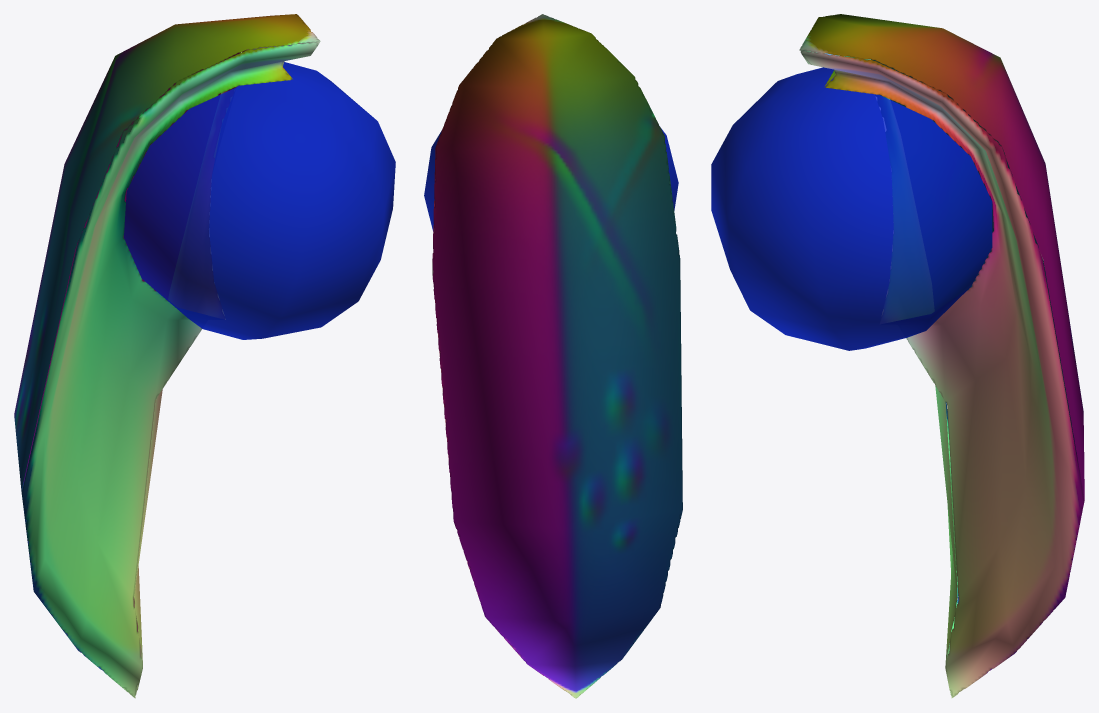
Rendered from ElipPata2.obj.
The picture shows the model from 3 angles, left to right: view 1: azimuth 30°, elevation 25°; view 2: azimuth 150°, elevation 25°; view 3: azimuth 270°, elevation 25°; orthographic projection. The views are drawn at different scales.
Visible parts, largest first — view 1: Sphere.003_Sphere.014; view 2: Sphere.003_Sphere.014; view 3: Sphere.003_Sphere.014.
Part boxes in pixels (box(x1,y1,x2,y2)): Sphere.003_Sphere.014: box(14, 14, 395, 698); Sphere.003_Sphere.014: box(424, 14, 682, 698); Sphere.003_Sphere.014: box(711, 14, 1084, 698).
Size of the model in its own units: 2.14 by 4.53 by 2.16.
